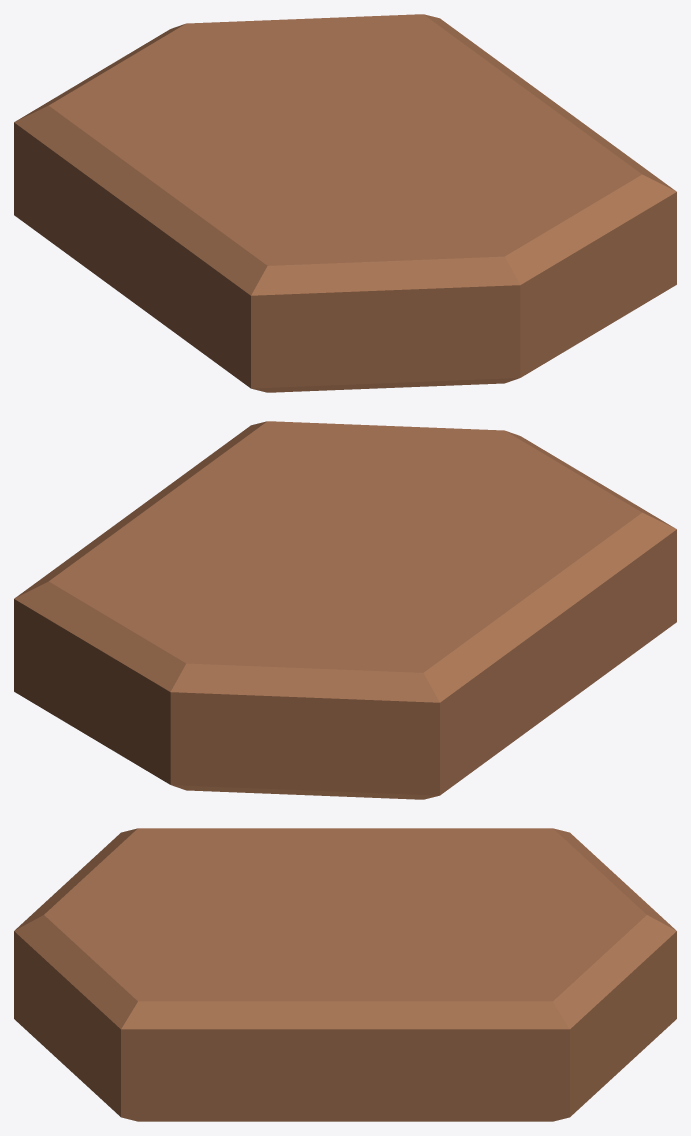
Rendered from islotecasa1.fbx.
The picture shows the model from 3 angles, top to bottom: view 1: azimuth 30°, elevation 25°; view 2: azimuth 150°, elevation 25°; view 3: azimuth 270°, elevation 25°; orthographic projection. The views are drawn at different scales.
Visible parts, largest first — view 1: Cube.006; view 2: Cube.006; view 3: Cube.006.
Part boxes in pixels (<box>): Cube.006: <box>14,14,676,392</box>; Cube.006: <box>14,421,676,799</box>; Cube.006: <box>14,828,676,1121</box>.
Size of the model in its own units: 200 by 56.95 by 285.
